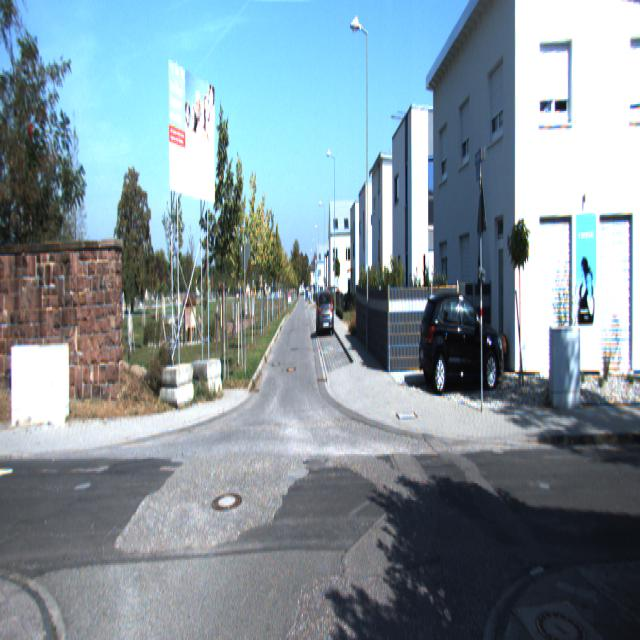Car: (417, 282, 506, 398), (317, 288, 334, 336)
